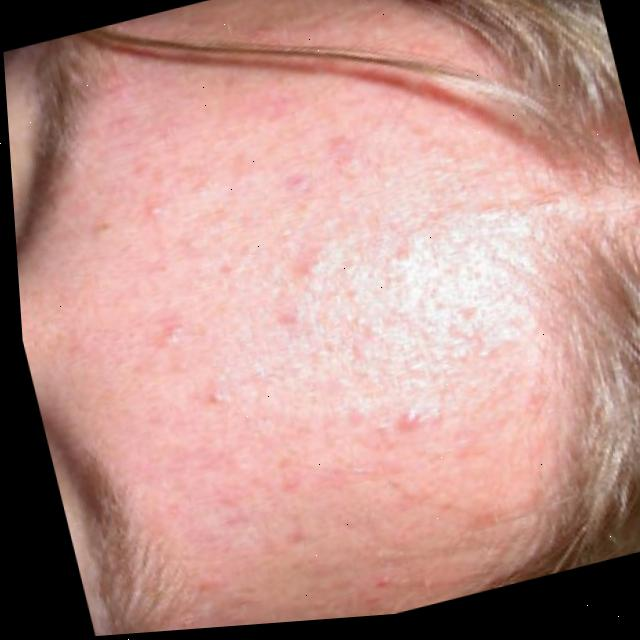Acne: (5, 0, 523, 602)
